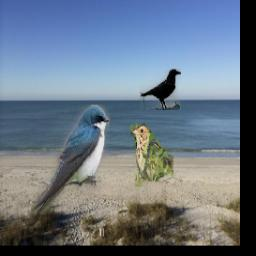Crow: (140, 68, 181, 110)
Sparrow: (130, 124, 173, 188)
Swallow: (31, 105, 110, 215)
